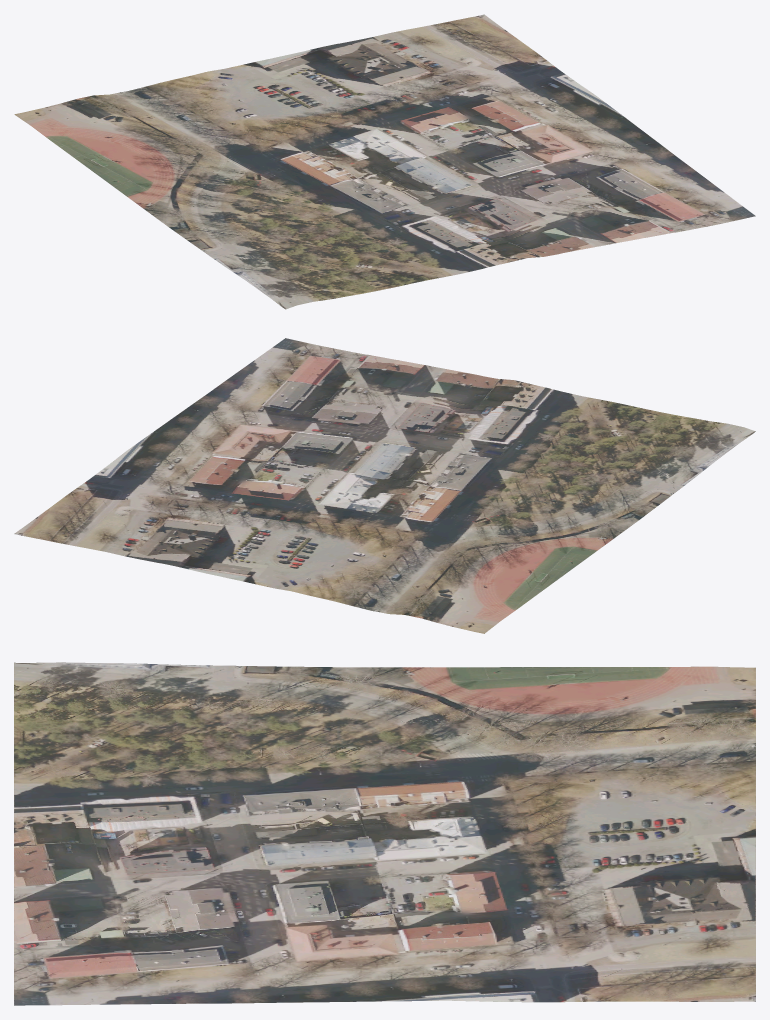
Rendered from CM_Terrain_24486363_6820613.fbx.
3 views of the same model, one above another, from view 1: azimuth 30°, elevation 25°; view 2: azimuth 150°, elevation 25°; view 3: azimuth 270°, elevation 25° (orthographic). The views are drawn at different scales.
Parts seen in each view (by area): view 1: CM_Terrain_24486363_6820613_LOD0; view 2: CM_Terrain_24486363_6820613_LOD0; view 3: CM_Terrain_24486363_6820613_LOD0.
Part boxes in pixels (x1,y1,x2,y2): CM_Terrain_24486363_6820613_LOD0: (14,14,755,309); CM_Terrain_24486363_6820613_LOD0: (14,338,755,633); CM_Terrain_24486363_6820613_LOD0: (14,662,755,1005).
Size of what is drawn, in the model's own units: 205 by 9.45 by 205.
